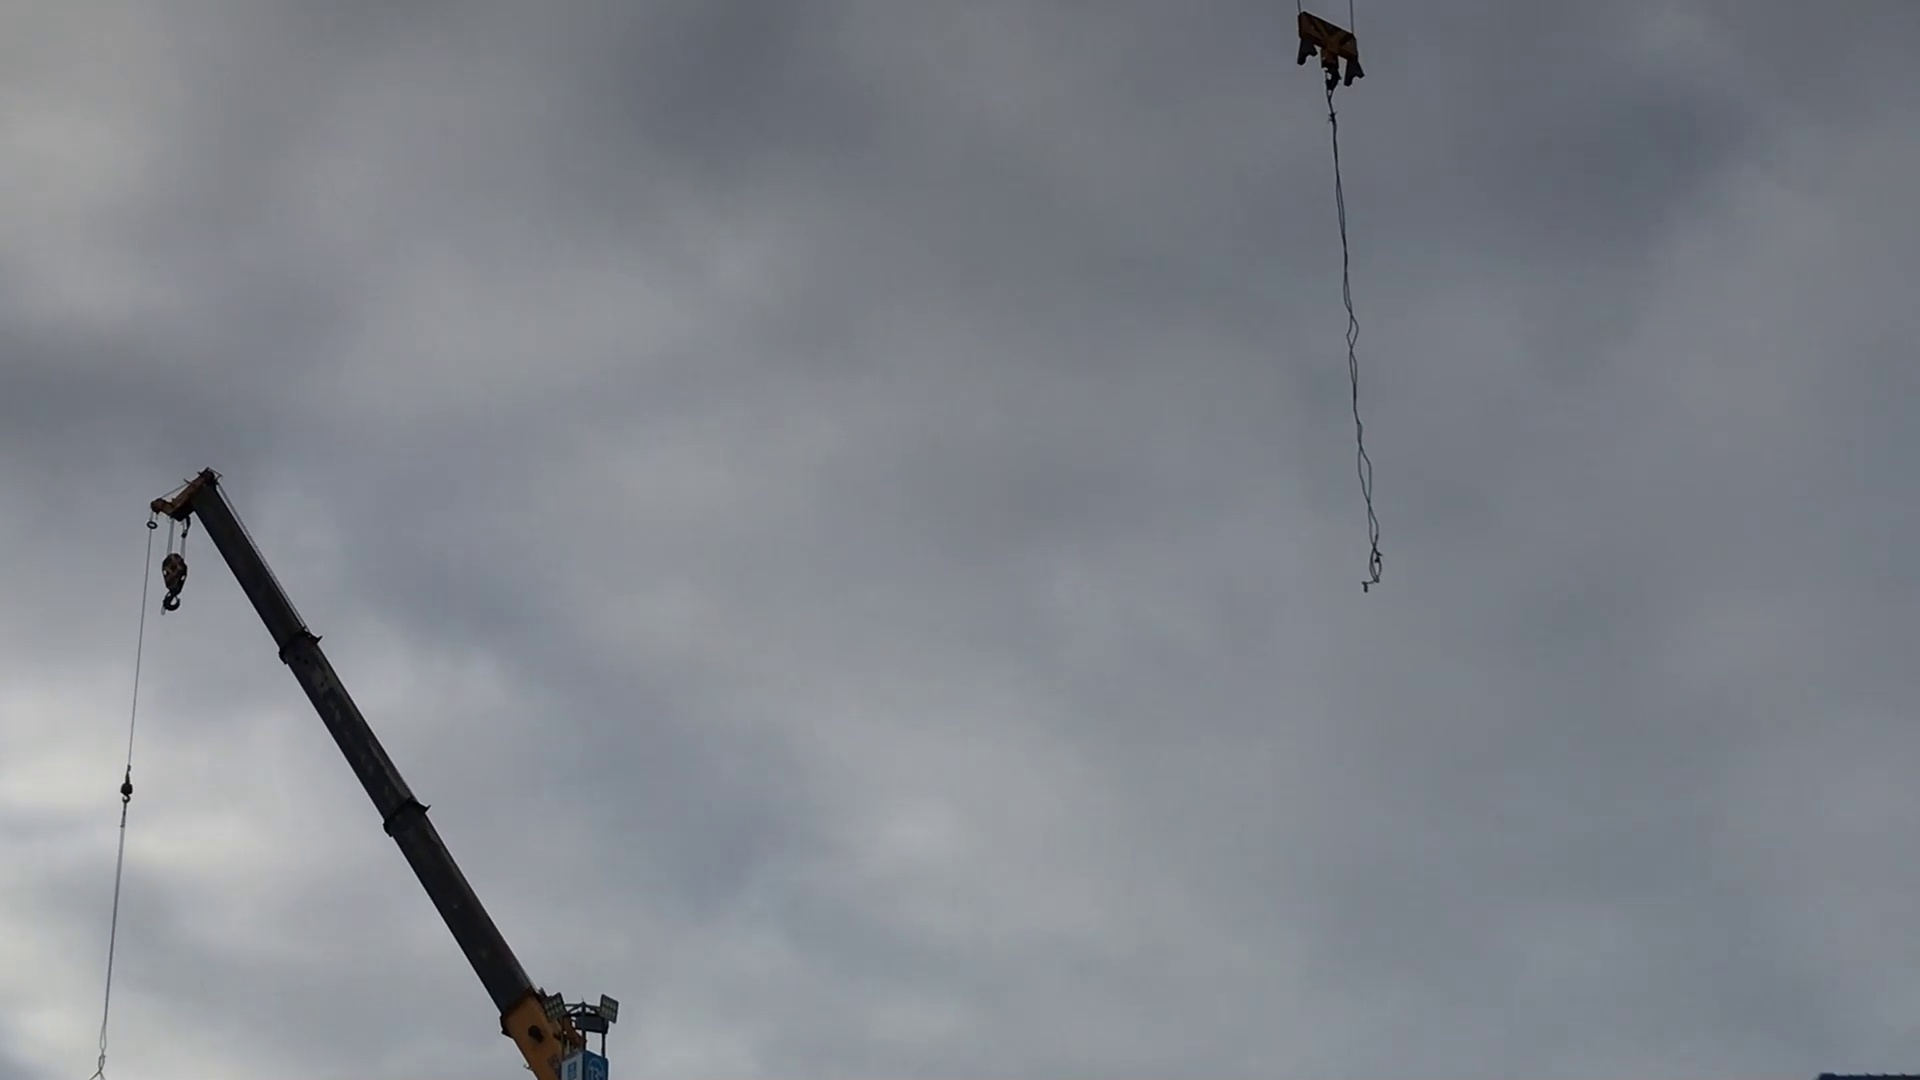hook: (1284, 11, 1367, 88)
